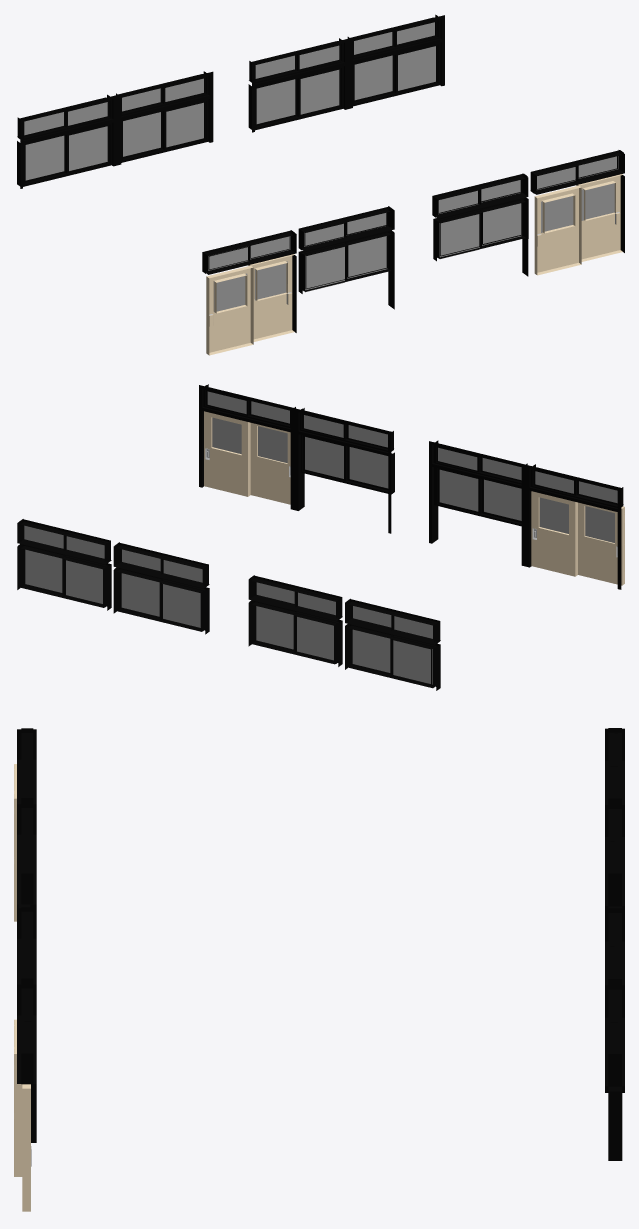
File: Window Door.fbx
3 renders of one model, top to bottom at view 1: azimuth 30°, elevation 25°; view 2: azimuth 150°, elevation 25°; view 3: azimuth 270°, elevation 25°, orthographic. The views are drawn at different scales.
Visible parts, largest first — view 1: door2, Glass04; view 2: door2, Glass04; view 3: door2.
Part boxes in pixels (box(x1,y1,x2,y2)): door2: box(17, 14, 624, 355); Glass04: box(24, 22, 618, 312); door2: box(17, 384, 624, 690); Glass04: box(24, 391, 617, 684); door2: box(14, 728, 624, 1211).
Size of the model in its own units: 1423 by 328 by 1111.
Materials: 2 (1 with a texture image).
